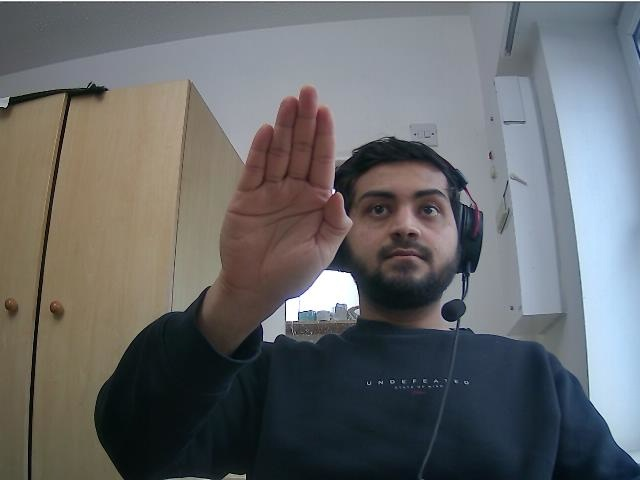up: (217, 83, 357, 300)
